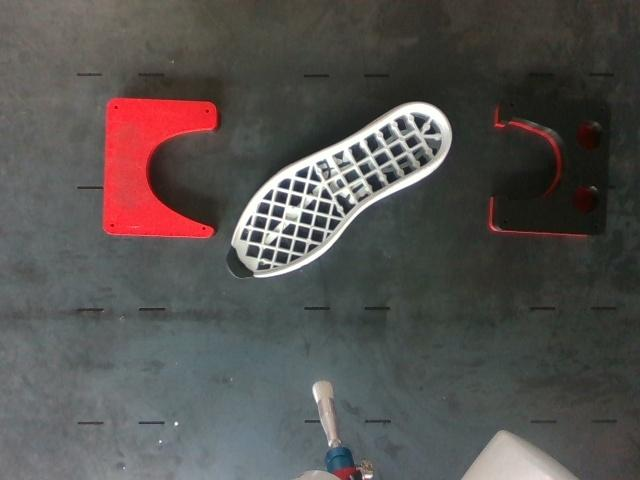shoes: (228, 103, 450, 279)
